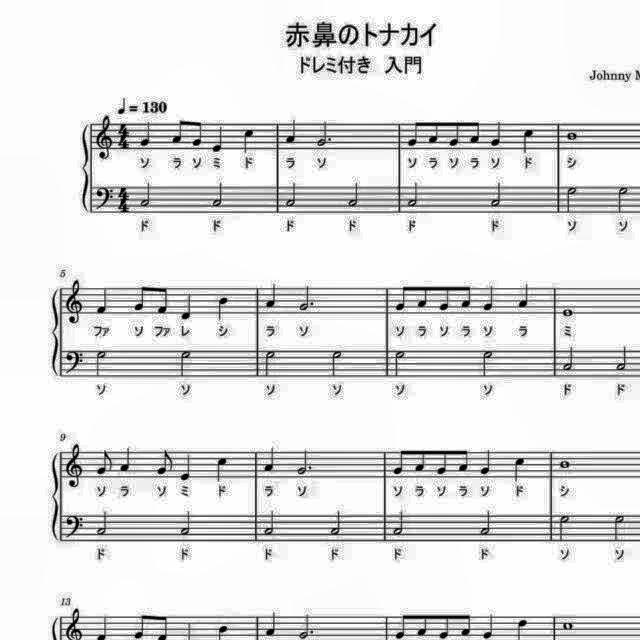Bass-clef: (64, 347, 88, 378), (64, 509, 88, 539), (94, 183, 116, 213)
Eighth-note: (154, 447, 178, 478), (94, 447, 115, 477), (394, 281, 412, 315), (132, 282, 150, 314), (390, 446, 408, 478), (434, 445, 451, 477), (156, 282, 172, 316), (188, 118, 204, 150), (448, 118, 464, 150), (438, 284, 454, 316), (406, 118, 422, 150), (172, 116, 188, 148), (391, 612, 409, 640), (435, 611, 452, 640), (412, 443, 428, 473), (415, 610, 431, 640), (426, 117, 442, 147), (132, 612, 148, 640), (416, 284, 432, 312), (456, 446, 472, 474), (458, 612, 474, 640), (458, 282, 474, 310), (470, 119, 484, 148)
Full-note: (564, 129, 580, 143), (560, 307, 576, 321), (560, 619, 576, 633), (557, 458, 573, 470)
Half-dot: (296, 283, 316, 315), (296, 447, 316, 478), (296, 611, 317, 640), (317, 118, 335, 150)
Half-note: (614, 184, 634, 216), (178, 348, 198, 380), (180, 507, 200, 538), (262, 347, 282, 378), (612, 342, 632, 373), (262, 508, 282, 538), (478, 508, 498, 538), (563, 185, 581, 218), (479, 346, 497, 378), (612, 514, 630, 546), (391, 347, 409, 378), (555, 511, 573, 542), (405, 181, 423, 211), (560, 344, 578, 374), (327, 508, 345, 538), (488, 181, 506, 211), (209, 181, 227, 211), (391, 509, 409, 538), (328, 346, 344, 378), (346, 178, 362, 210), (94, 347, 110, 379), (138, 181, 154, 211), (96, 509, 112, 539), (284, 181, 300, 211)
Quarter-note: (177, 290, 195, 324), (480, 281, 498, 313), (92, 284, 110, 316), (488, 116, 506, 148), (210, 124, 227, 156), (282, 117, 300, 147), (262, 444, 280, 474), (511, 453, 529, 483), (212, 453, 230, 483), (177, 452, 195, 482), (478, 448, 496, 478), (516, 278, 532, 310), (116, 446, 134, 474), (479, 611, 496, 640), (138, 119, 154, 149), (264, 280, 280, 310), (264, 609, 280, 639), (213, 294, 230, 322), (238, 128, 254, 156), (520, 126, 536, 154)
Treble-clef: (64, 442, 88, 491), (64, 278, 88, 326), (95, 113, 116, 163)
